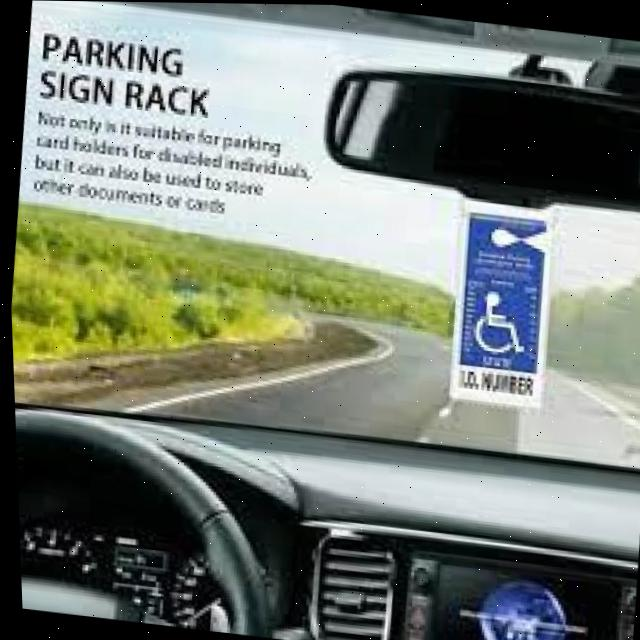symbol_of_access: (468, 289, 528, 357)
